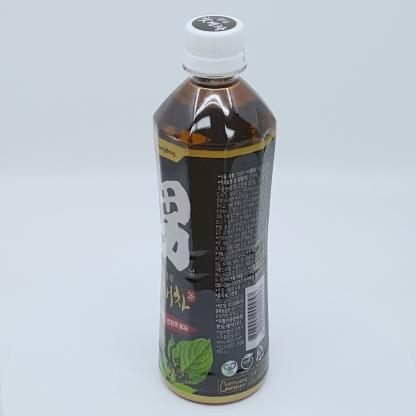---------500ML: (152, 13, 277, 405)
